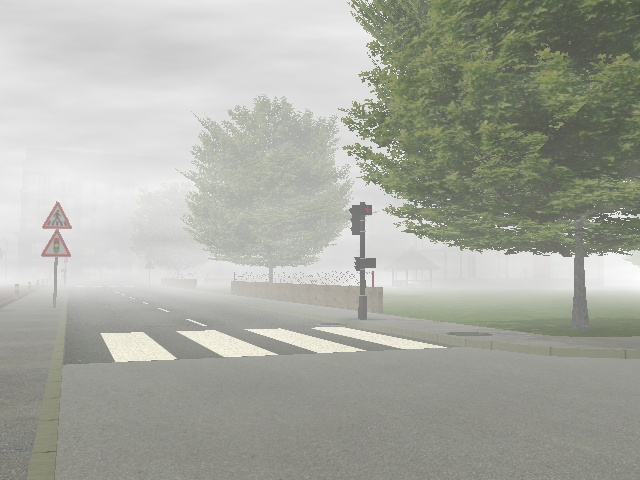Pedestrian crossing: (35, 197, 81, 230)
Traffic lights: (39, 229, 72, 260)
